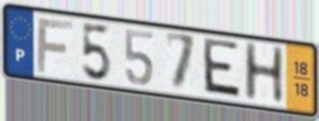5: (80, 20, 113, 83), (123, 27, 155, 87)
7: (163, 29, 198, 94)
E: (201, 36, 244, 102)
F: (35, 17, 75, 75)
H: (242, 40, 287, 105)
